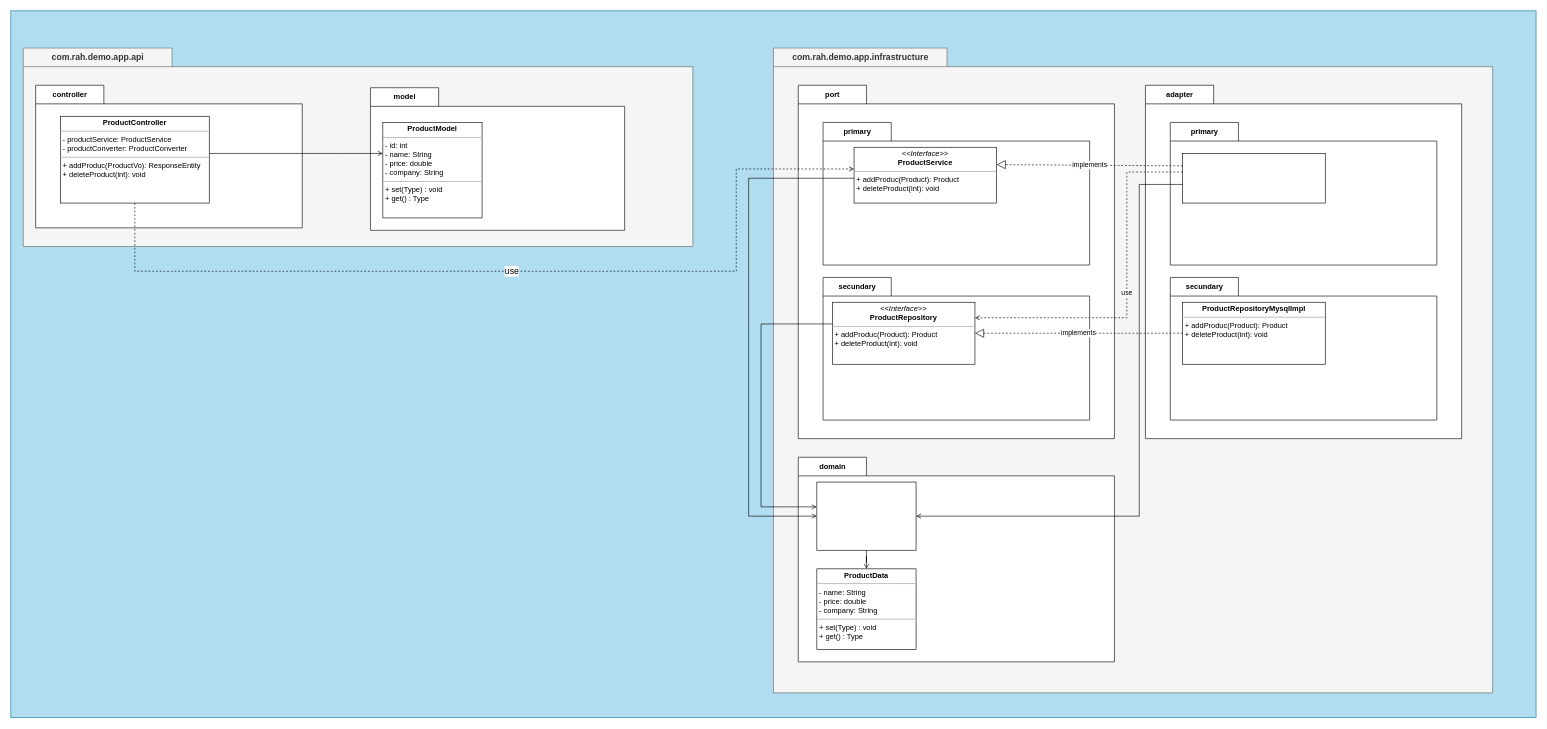
Some shapes in this 1547 by 729 pixel diagram are drawn without their labels. The centre of each missing label's shape, as x and y in pixels:
"Product - id: int - productData: ProductData + set(Type) : void + get() : Type" belongs at pixel 866 515.
"ProductServiceImpl + addProduc(Product): Product + deleteProduct(int): void" belongs at pixel 1253 178.
